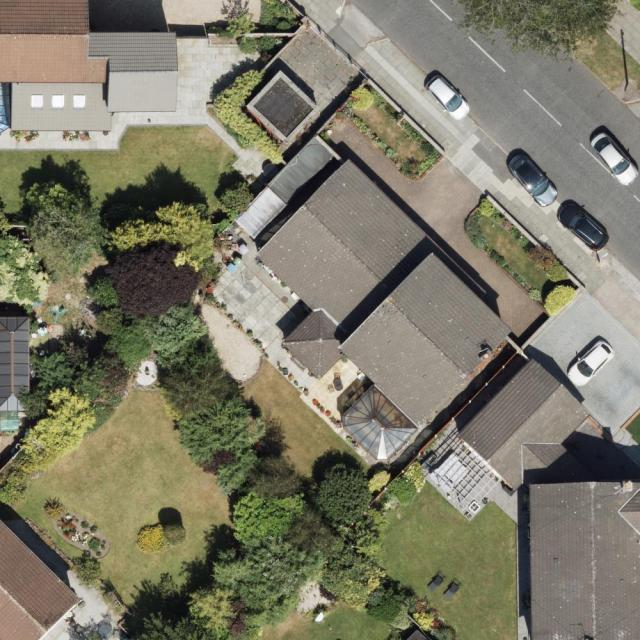roof: (238, 134, 512, 462), (456, 358, 640, 640), (0, 0, 178, 130), (0, 519, 82, 640), (247, 69, 322, 143), (0, 315, 31, 414)
skylight: (344, 386, 420, 462), (28, 92, 46, 110), (50, 93, 67, 110), (72, 94, 87, 110)
